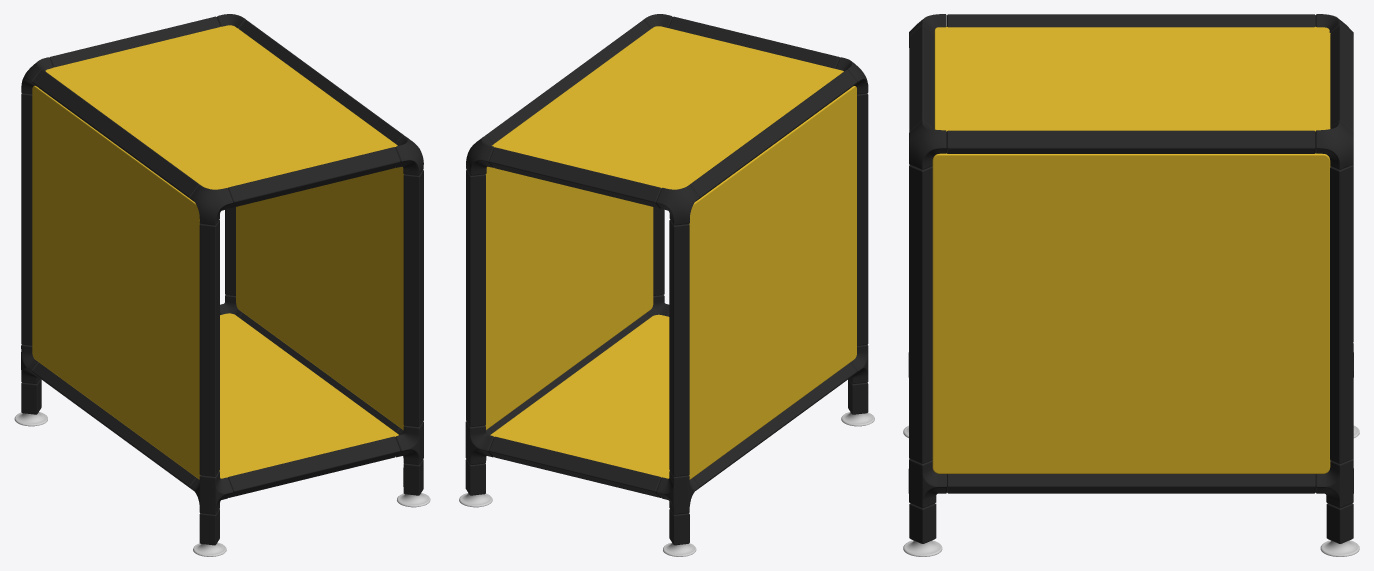
3 renders of one model, left to right at view 1: azimuth 30°, elevation 25°; view 2: azimuth 150°, elevation 25°; view 3: azimuth 270°, elevation 25°, orthographic. The views are drawn at different scales.
Visible parts, largest first — view 1: 229x374x329; view 2: 229x374x329; view 3: 229x374x329.
Boxes of the visible parts, x1=… form: 229x374x329: x1=14, y1=14, x2=430, y2=556; 229x374x329: x1=459, y1=14, x2=874, y2=556; 229x374x329: x1=903, y1=14, x2=1359, y2=556.
Bounding box in the file's own units: 0.3188 × 0.4683 × 0.4632.
